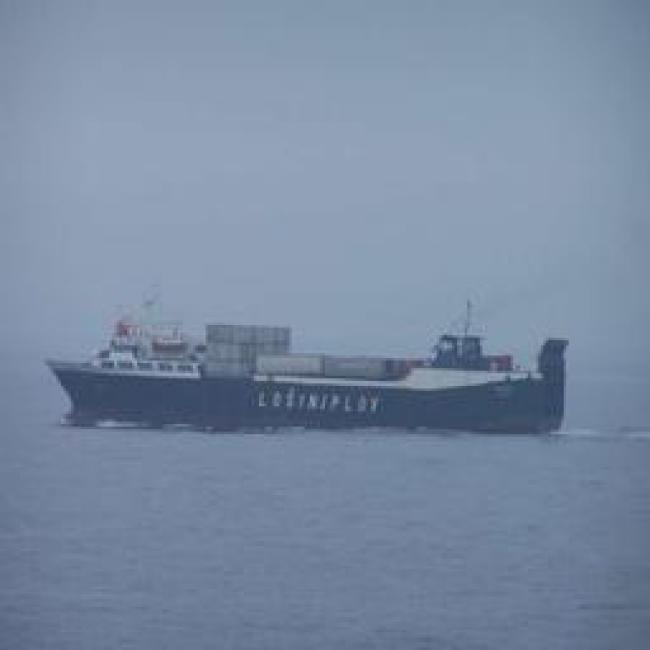Ship: (26, 323, 586, 444)
